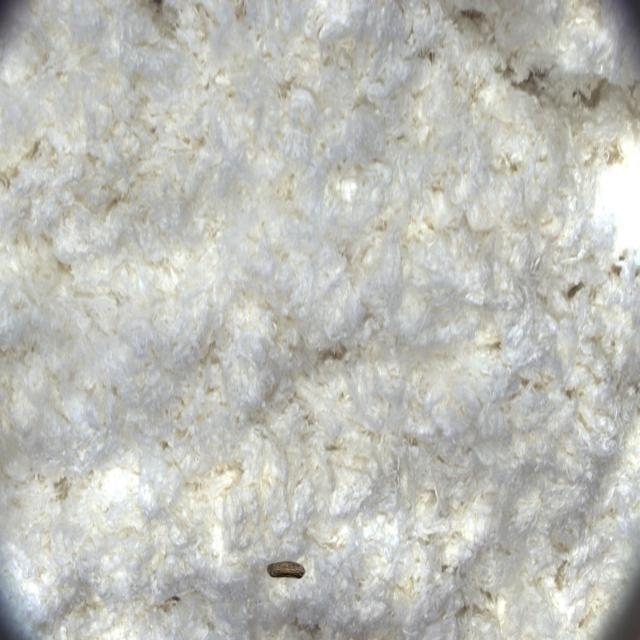dust: (251, 530, 318, 616)
